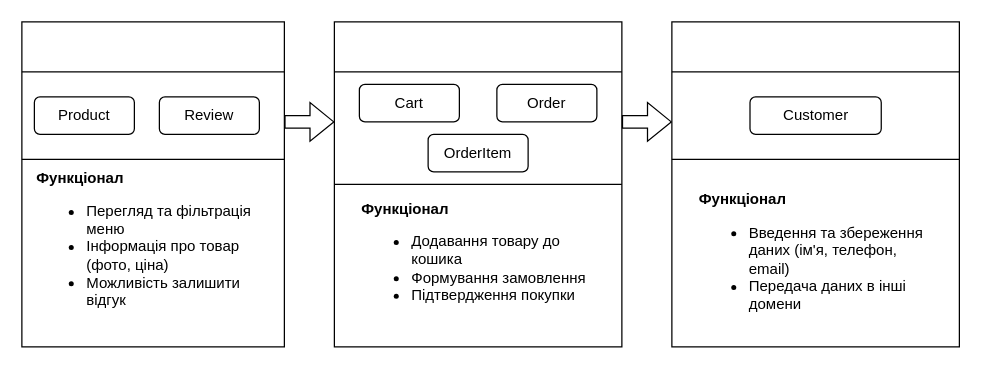
Image size: 983x381. Some labels were removed from this diagram. Each missing label, with the box of its shape:
CORE DOMAIN: Catalog Context: (21, 21, 284, 347)
GENERIC DOMAIN: Customer Context: (671, 21, 959, 347)
SUPPORTING DOMAIN: Salers & Order Context: (333, 21, 622, 347)
